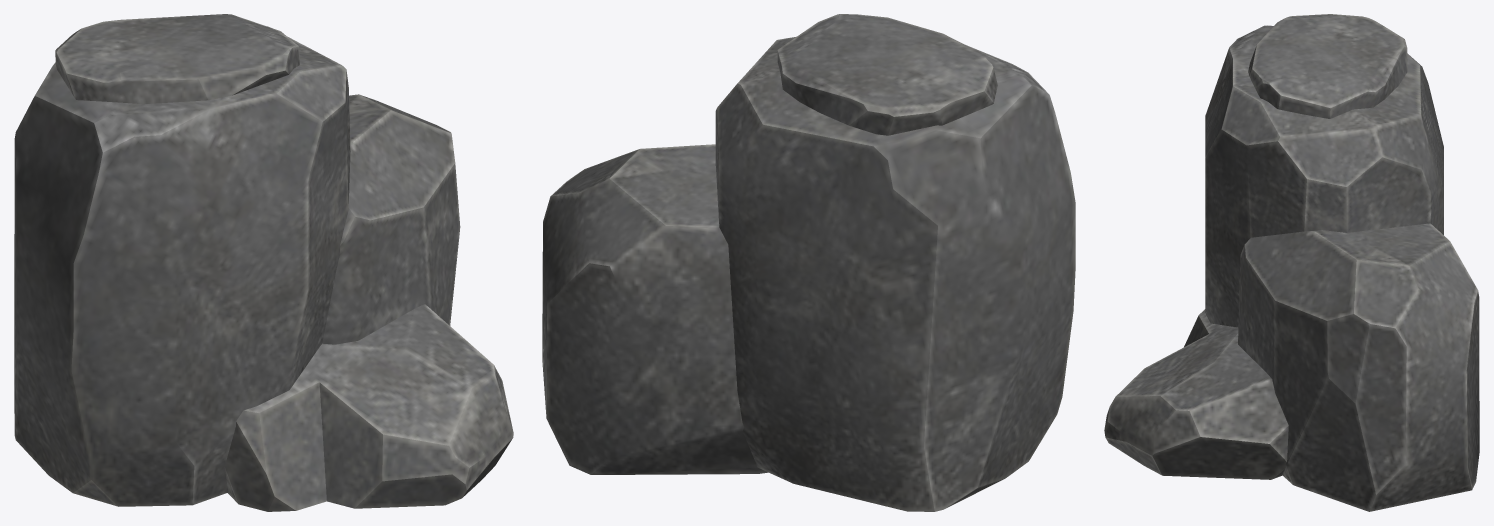
File: RockGroup05_Dream.glb
3 views of the same model, side by side, from view 1: azimuth 30°, elevation 25°; view 2: azimuth 150°, elevation 25°; view 3: azimuth 270°, elevation 25° (orthographic). The views are drawn at different scales.
Parts seen in each view (by area): view 1: rockgroup05_dream; view 2: rockgroup05_dream; view 3: rockgroup05_dream.
Boxes of the visible parts, x1,y1,x2,y2 form: rockgroup05_dream: (14,14,513,511); rockgroup05_dream: (542,14,1075,511); rockgroup05_dream: (1104,14,1479,511).
Bounding box in the file's own units: 0.778 × 0.688 × 0.671.
Materials: 1 (1 with a texture image).
